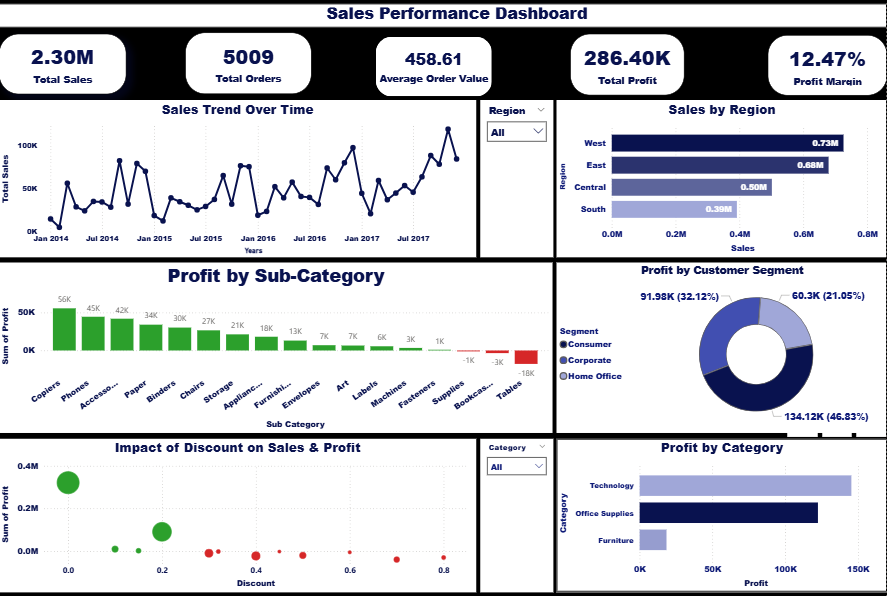

Layout of this report page (visuals, bound fields, positions):
{"tool":"powerbi","page":{"name":"Page 1","canvas":[1350,1100],"ordinal":0},"visuals":[{"type":"card","fields":{"Values":["Sum(sales dataset.Profit)"]},"box":[868.3,51.7,173.3,93.3],"z":0},{"type":"card","fields":{"Values":["Count(sales dataset.Order_ID)"]},"box":[283.3,50,191.7,93.3],"z":1000},{"type":"card","fields":{"Values":["Sum(sales dataset.Sales)"]},"box":[0,51.7,193.3,91.7],"z":2000},{"type":"card","fields":{"Values":["sales dataset.Profit Margin"]},"box":[1168.5,52.3,181.5,92.3],"z":3000},{"type":"lineChart","title":"Sales Trend Over Time","fields":{"Y":["Sum(sales dataset.Sales)"],"Category":["sales dataset.Order_Date.Variation.Date Hierarchy.Year","sales dataset.Order_Date.Variation.Date Hierarchy.Month"]},"box":[0,151.9,725.9,239.5],"z":4000},{"type":"clusteredBarChart","title":"Sales by Region","fields":{"Category":["sales dataset.Region"],"Y":["Sum(sales dataset.Sales)"]},"box":[846.9,151.9,503.7,239.5],"z":5000},{"type":"clusteredBarChart","title":"Profit by Category","fields":{"Category":["sales dataset.Category"],"Y":["Sum(sales dataset.Profit)"]},"box":[846.9,666.7,503.7,233.3],"z":6000},{"type":"clusteredColumnChart","title":"Profit by Sub-Category","fields":{"Y":["Sum(sales dataset.Profit)"],"Category":["sales dataset.Sub_Category"]},"box":[0,400,842,259.3],"z":7000},{"type":"slicer","fields":{"Values":["sales dataset.Region"]},"box":[730.9,151.9,111.1,239.5],"z":8000},{"type":"slicer","fields":{"Values":["sales dataset.Category"]},"box":[730.9,666.7,111.1,233.3],"z":9000},{"type":"donutChart","title":"Profit by Customer Segment","fields":{"Category":["sales dataset.Segment"],"Y":["Sum(sales dataset.Profit)"]},"box":[846.9,400,503.7,259.3],"z":10000},{"type":"scatterChart","title":"Impact of Discount on Sales & Profit","fields":{"Size":["Sum(sales dataset.Sales)"],"X":["sales dataset.Discount"],"Y":["Sum(sales dataset.Profit)"]},"box":[0,666.7,725.9,233.3],"z":11000},{"type":"textbox","box":[0,5.7,1400,35.7],"z":12000},{"type":"cardVisual","fields":{"Data":["sales dataset.Average Order Value"]},"box":[568.3,51.7,186.7,100],"z":12001},{"type":"textbox","box":[0,910,1350,190],"z":12002}]}

Visuals, with their boxes on the page's 1350x1100 design canvas (x1, y1, x2, y2). These are canvas units, not pixel positions in the 887x596 screenshot, which may show the page scaled, cropped or inside an application window:
card - Sum(sales dataset.Profit): <box>868,52,1042,145</box>
card - Count(sales dataset.Order_ID): <box>283,50,475,143</box>
card - Sum(sales dataset.Sales): <box>0,52,193,143</box>
card - sales dataset.Profit Margin: <box>1168,52,1350,145</box>
"Sales Trend Over Time" lineChart: <box>0,152,726,391</box>
"Sales by Region" clusteredBarChart: <box>847,152,1351,391</box>
"Profit by Category" clusteredBarChart: <box>847,667,1351,900</box>
"Profit by Sub-Category" clusteredColumnChart: <box>0,400,842,659</box>
slicer - sales dataset.Region: <box>731,152,842,391</box>
slicer - sales dataset.Category: <box>731,667,842,900</box>
"Profit by Customer Segment" donutChart: <box>847,400,1351,659</box>
"Impact of Discount on Sales & Profit" scatterChart: <box>0,667,726,900</box>
textbox: <box>0,6,1400,41</box>
cardVisual - sales dataset.Average Order Value: <box>568,52,755,152</box>
textbox: <box>0,910,1350,1100</box>
